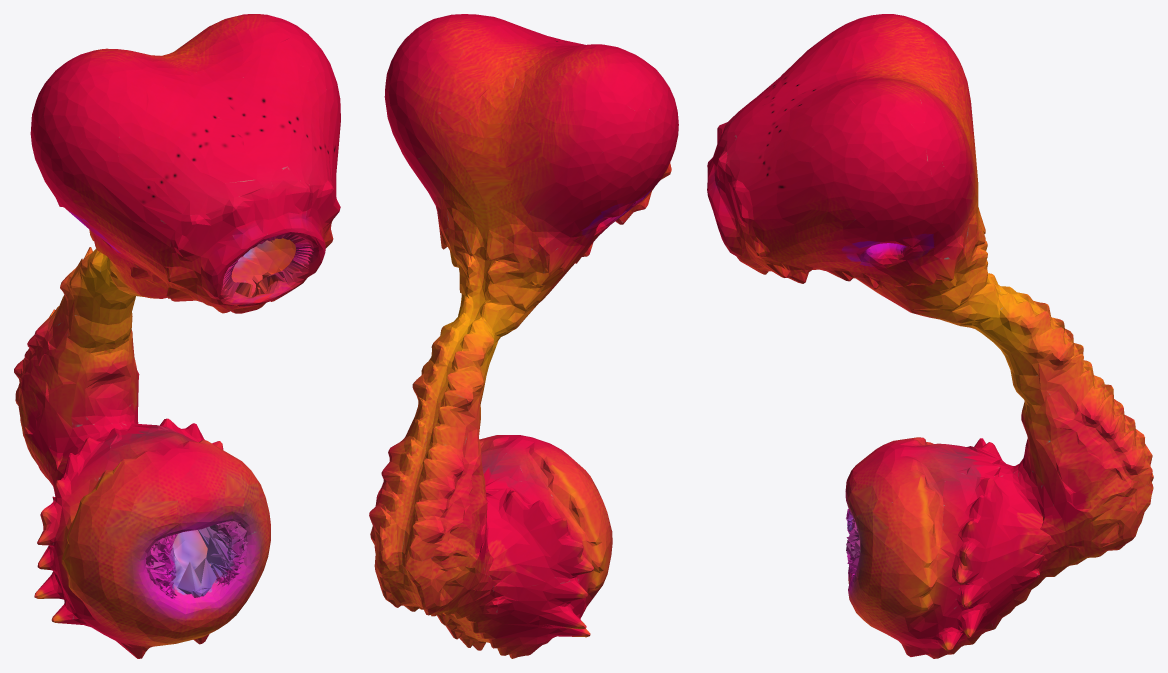
Rendered from apricot2.obj.
3 views of the same model, side by side, from view 1: azimuth 30°, elevation 25°; view 2: azimuth 150°, elevation 25°; view 3: azimuth 270°, elevation 25° (orthographic). The views are drawn at different scales.
Parts seen in each view (by area): view 1: Creature; view 2: Creature; view 3: Creature.
Boxes of the visible parts, x1,y1,x2,y2 form: Creature: [14, 14, 340, 658]; Creature: [369, 14, 678, 658]; Creature: [707, 14, 1153, 658].
Bounding box in the file's own units: 6.56 × 13.88 × 9.49.
